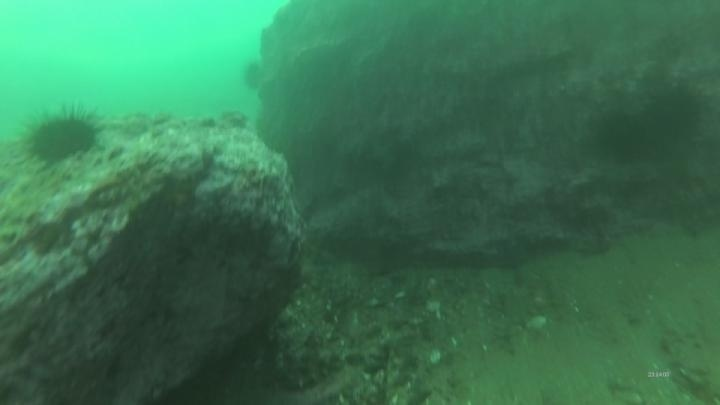echinus: (20, 103, 104, 169), (641, 82, 706, 146), (592, 109, 653, 164), (239, 58, 268, 94)
holothurian: (276, 346, 346, 394)
